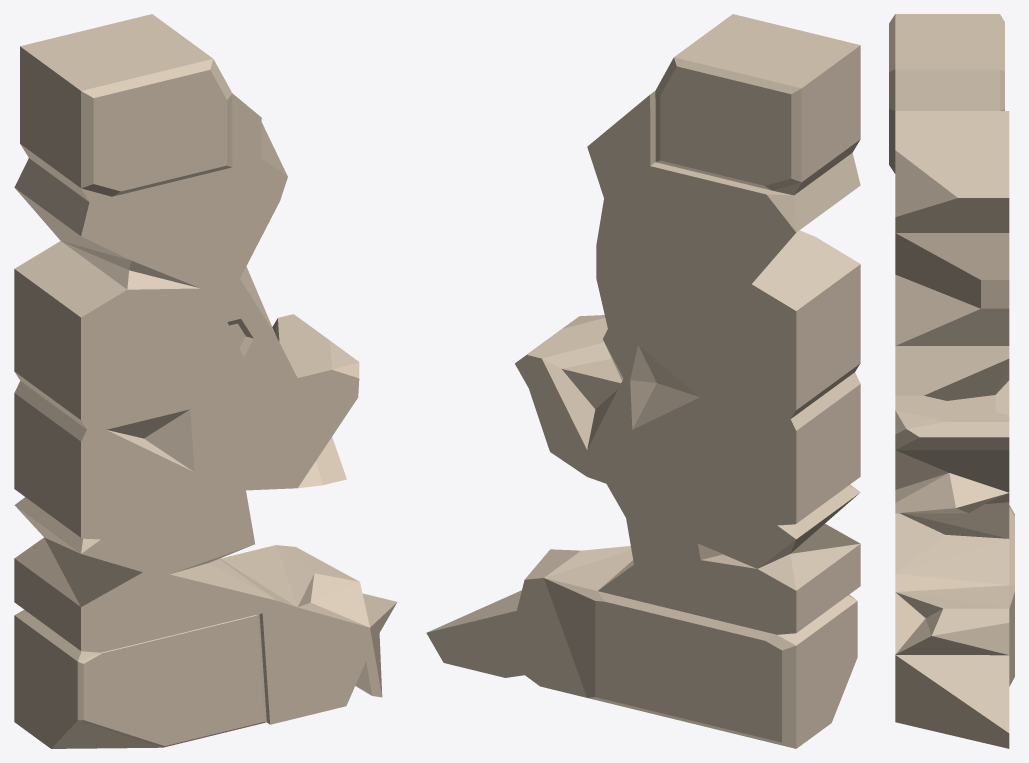
The model's file is Broken_Wall_002.fbx.
3 views of the same model, side by side, from view 1: azimuth 30°, elevation 25°; view 2: azimuth 150°, elevation 25°; view 3: azimuth 270°, elevation 25° (orthographic). The views are drawn at different scales.
Parts seen in each view (by area): view 1: Broken_Wall_002; view 2: Broken_Wall_002; view 3: Broken_Wall_002.
Boxes of the visible parts, x1,y1,x2,y2 form: Broken_Wall_002: (14, 14, 397, 748); Broken_Wall_002: (426, 14, 860, 748); Broken_Wall_002: (889, 14, 1014, 748).
Bounding box in the file's own units: 1.33 × 2.25 × 0.441.
